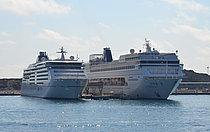Ship: (83, 37, 188, 105), (15, 44, 92, 103)
